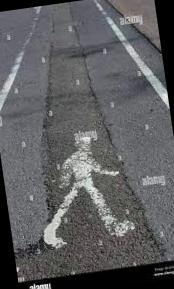faded_road_lines: (31, 130, 133, 248), (94, 0, 169, 107), (0, 5, 43, 110)
